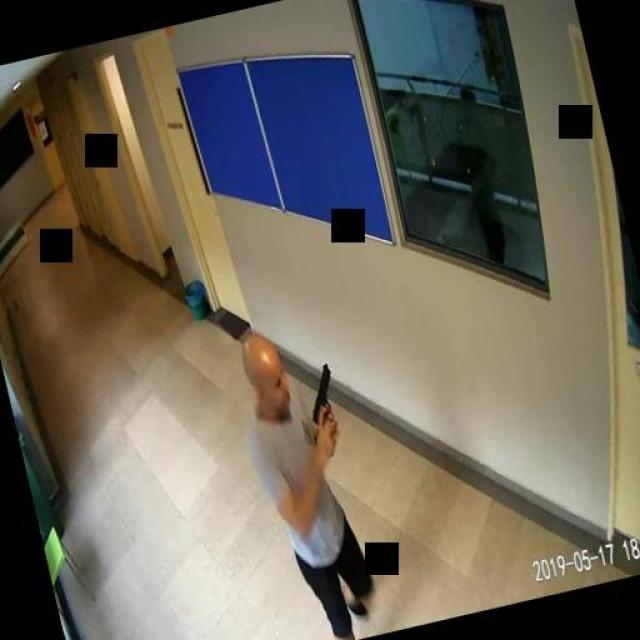gun: (300, 362, 342, 442)
